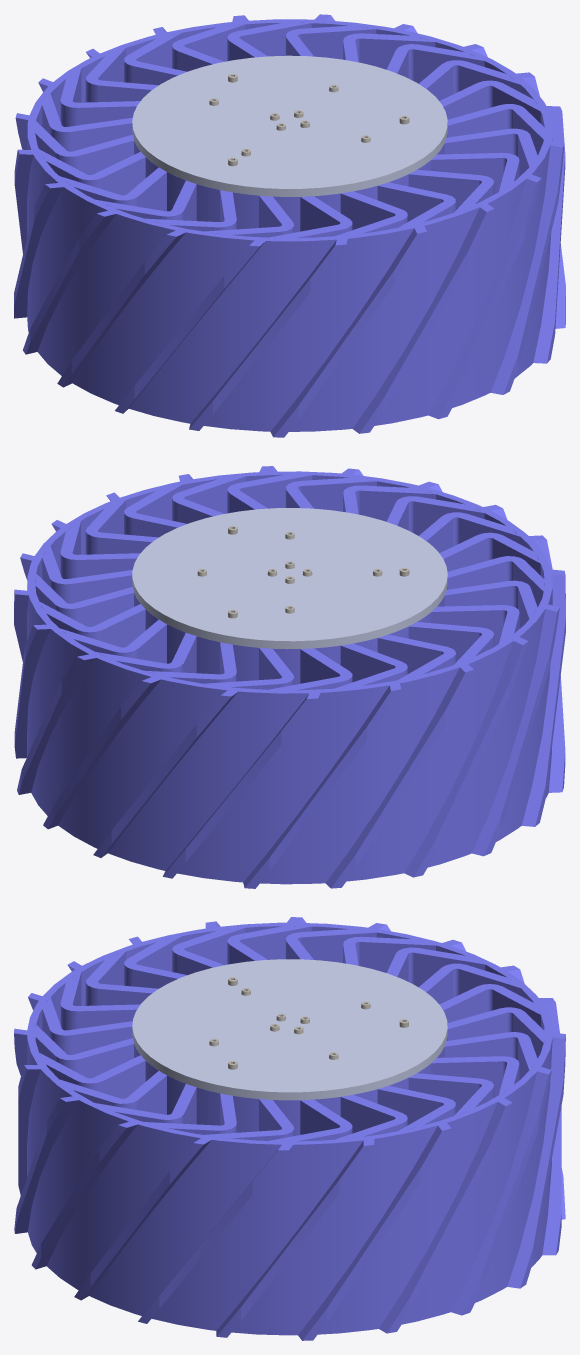
The model's file is Wheel-L.obj.
The picture shows the model from 3 angles, top to bottom: view 1: azimuth 30°, elevation 25°; view 2: azimuth 150°, elevation 25°; view 3: azimuth 270°, elevation 25°; orthographic projection.
Parts seen in each view (by area): view 1: hub_motor_2025_asem; view 2: hub_motor_2025_asem; view 3: hub_motor_2025_asem.
Part boxes in pixels (x1,y1,x2,y2): hub_motor_2025_asem: (14, 14, 565, 437); hub_motor_2025_asem: (14, 466, 565, 888); hub_motor_2025_asem: (14, 917, 565, 1340).
Bounding box in the file's own units: 0.315 × 0.1845 × 0.315.
